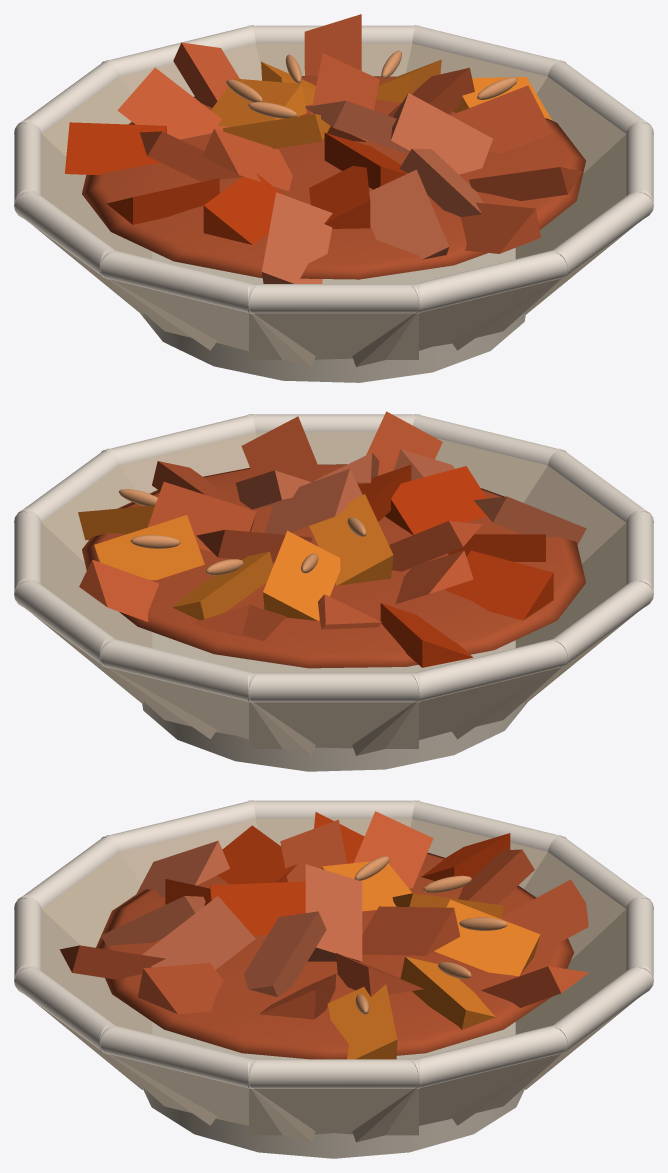
File: CMU3DFoodSaladKimchiCloud.glb
The picture shows the model from 3 angles, top to bottom: view 1: azimuth 30°, elevation 25°; view 2: azimuth 150°, elevation 25°; view 3: azimuth 270°, elevation 25°; orthographic projection.
Parts seen in each view (by area): view 1: kimchi bed, closed ceramic basin floor, flared hollow ceramic wall 09, rolled ceramic rim 09, flared hollow ceramic wall 08, flared hollow ceramic wall 10, flared hollow ceramic wall 12, folded cabbage leaf 16, folded cabbage leaf 21, rolled ceramic rim 08, rolled ceramic rim 10, folded cabbage leaf 06 (+40 smaller); view 2: kimchi bed, closed ceramic basin floor, flared hollow ceramic wall 05, rolled ceramic rim 05, flared hollow ceramic wall 06, flared hollow ceramic wall 04, flared hollow ceramic wall 02, rolled ceramic rim 04, rolled ceramic rim 06, folded cabbage leaf 18, folded cabbage leaf 08, folded cabbage leaf 07 (+40 smaller); view 3: kimchi bed, closed ceramic basin floor, flared hollow ceramic wall 01, rolled ceramic rim 01, flared hollow ceramic wall 02, flared hollow ceramic wall 12, flared hollow ceramic wall 04, rolled ceramic rim 02, rolled ceramic rim 12, flared hollow ceramic wall 09, flared hollow ceramic wall 10, folded cabbage leaf 01 (+41 smaller).
Boxes of the visible parts, x1=… form: kimchi bed: x1=82, y1=75, x2=585, y2=279; closed ceramic basin floor: x1=140, y1=248, x2=525, y2=382; flared hollow ceramic wall 09: x1=249, y1=313, x2=418, y2=359; rolled ceramic rim 09: x1=248, y1=284, x2=419, y2=313; flared hollow ceramic wall 08: x1=107, y1=279, x2=315, y2=367; flared hollow ceramic wall 10: x1=352, y1=279, x2=560, y2=367; flared hollow ceramic wall 12: x1=515, y1=134, x2=633, y2=314; folded cabbage leaf 16: x1=369, y1=169, x2=448, y2=259; folded cabbage leaf 21: x1=261, y1=192, x2=332, y2=283; rolled ceramic rim 08: x1=99, y1=249, x2=255, y2=313; rolled ceramic rim 10: x1=412, y1=249, x2=568, y2=313; folded cabbage leaf 06: x1=391, y1=93, x2=492, y2=174; kimchi bed: x1=82, y1=464, x2=585, y2=668; closed ceramic basin floor: x1=142, y1=632, x2=527, y2=771; flared hollow ceramic wall 05: x1=249, y1=702, x2=418, y2=748; rolled ceramic rim 05: x1=248, y1=673, x2=419, y2=702; flared hollow ceramic wall 06: x1=352, y1=667, x2=561, y2=755; flared hollow ceramic wall 04: x1=106, y1=667, x2=315, y2=755; flared hollow ceramic wall 02: x1=33, y1=523, x2=152, y2=703; rolled ceramic rim 04: x1=99, y1=638, x2=255, y2=702; rolled ceramic rim 06: x1=412, y1=638, x2=568, y2=702; folded cabbage leaf 18: x1=445, y1=550, x2=553, y2=620; folded cabbage leaf 08: x1=385, y1=466, x2=487, y2=534; folded cabbage leaf 07: x1=263, y1=530, x2=340, y2=620; kimchi bed: x1=96, y1=852, x2=574, y2=1059; closed ceramic basin floor: x1=143, y1=1022, x2=524, y2=1158; flared hollow ceramic wall 01: x1=249, y1=1088, x2=418, y2=1135; rolled ceramic rim 01: x1=248, y1=1059, x2=419, y2=1088; flared hollow ceramic wall 02: x1=352, y1=1054, x2=560, y2=1142; flared hollow ceramic wall 12: x1=107, y1=1054, x2=315, y2=1142; flared hollow ceramic wall 04: x1=515, y1=909, x2=635, y2=1089; rolled ceramic rim 02: x1=412, y1=1025, x2=568, y2=1088; rolled ceramic rim 12: x1=99, y1=1025, x2=255, y2=1088; flared hollow ceramic wall 09: x1=42, y1=852, x2=141, y2=947; flared hollow ceramic wall 10: x1=32, y1=909, x2=152, y2=1089; folded cabbage leaf 01: x1=305, y1=864, x2=362, y2=961.
Bounding box in the file's own units: 0.7325 × 0.2837 × 0.7325.
